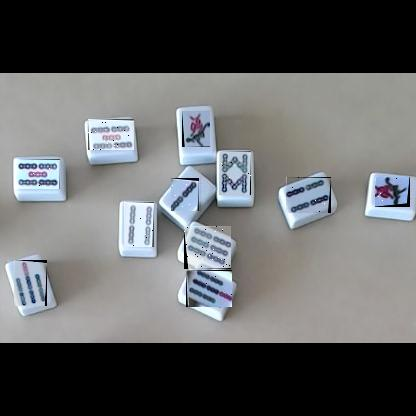1s: (375, 177, 410, 207), (182, 110, 210, 147)
2s: (172, 178, 204, 211)
4s: (286, 177, 331, 213), (124, 202, 154, 247)
5s: (88, 119, 134, 150), (14, 159, 60, 189)
6s: (184, 226, 231, 269)
7s: (186, 270, 232, 307), (14, 260, 47, 306)
8s: (219, 151, 251, 195)
